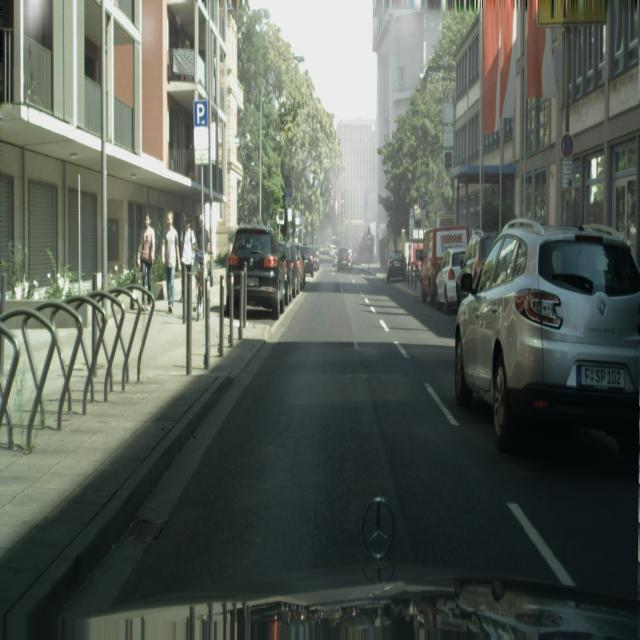motorcycle: (419, 225, 469, 304)
person: (180, 214, 197, 321), (162, 212, 179, 314), (138, 213, 156, 300), (195, 214, 210, 310)
truck: (453, 219, 640, 460), (225, 225, 289, 319), (456, 230, 497, 304), (435, 248, 466, 314), (286, 242, 301, 297), (386, 251, 408, 284), (301, 246, 316, 279), (336, 248, 353, 271)
